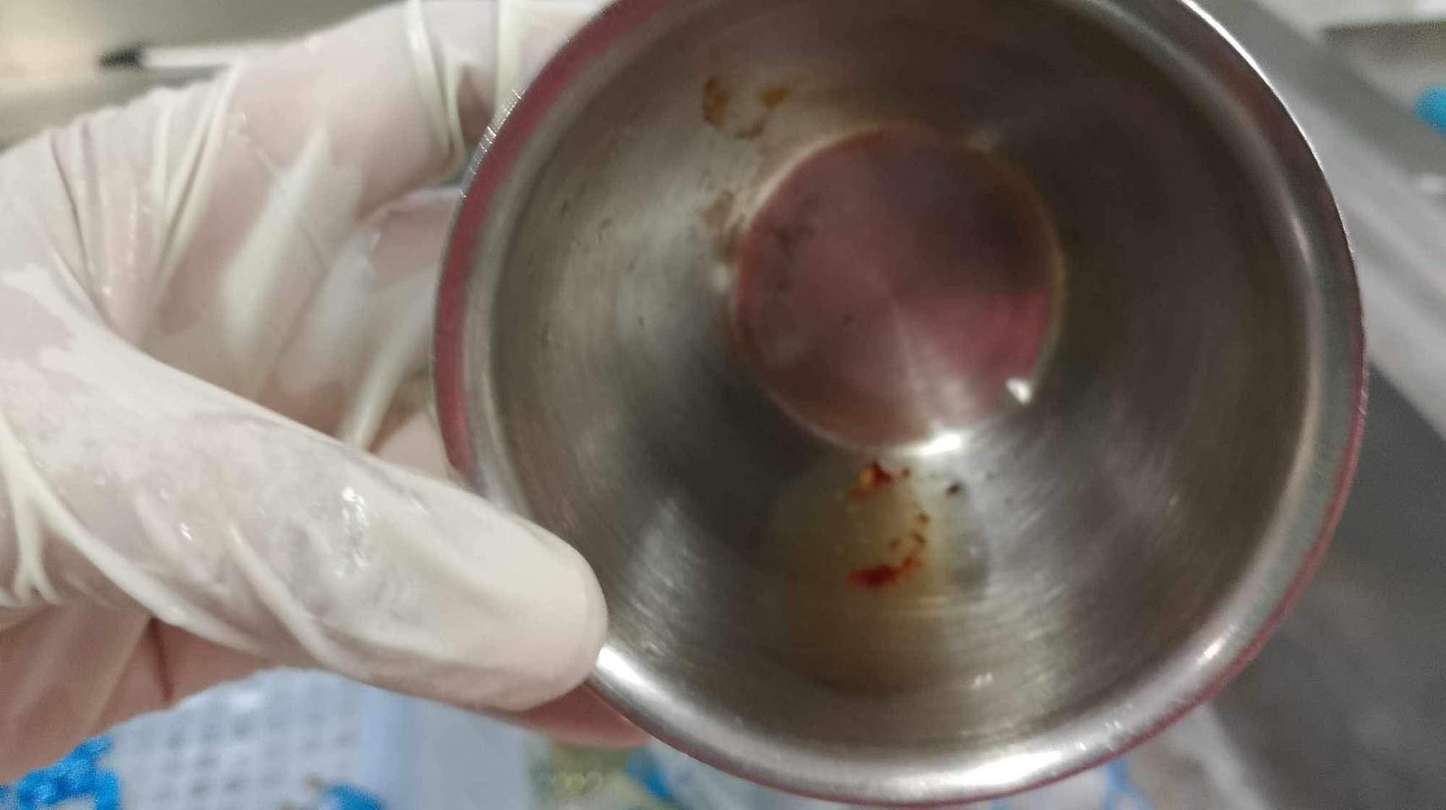General: (424, 2, 1375, 805), (718, 116, 1069, 455)
Infectious: (1, 0, 642, 782)
